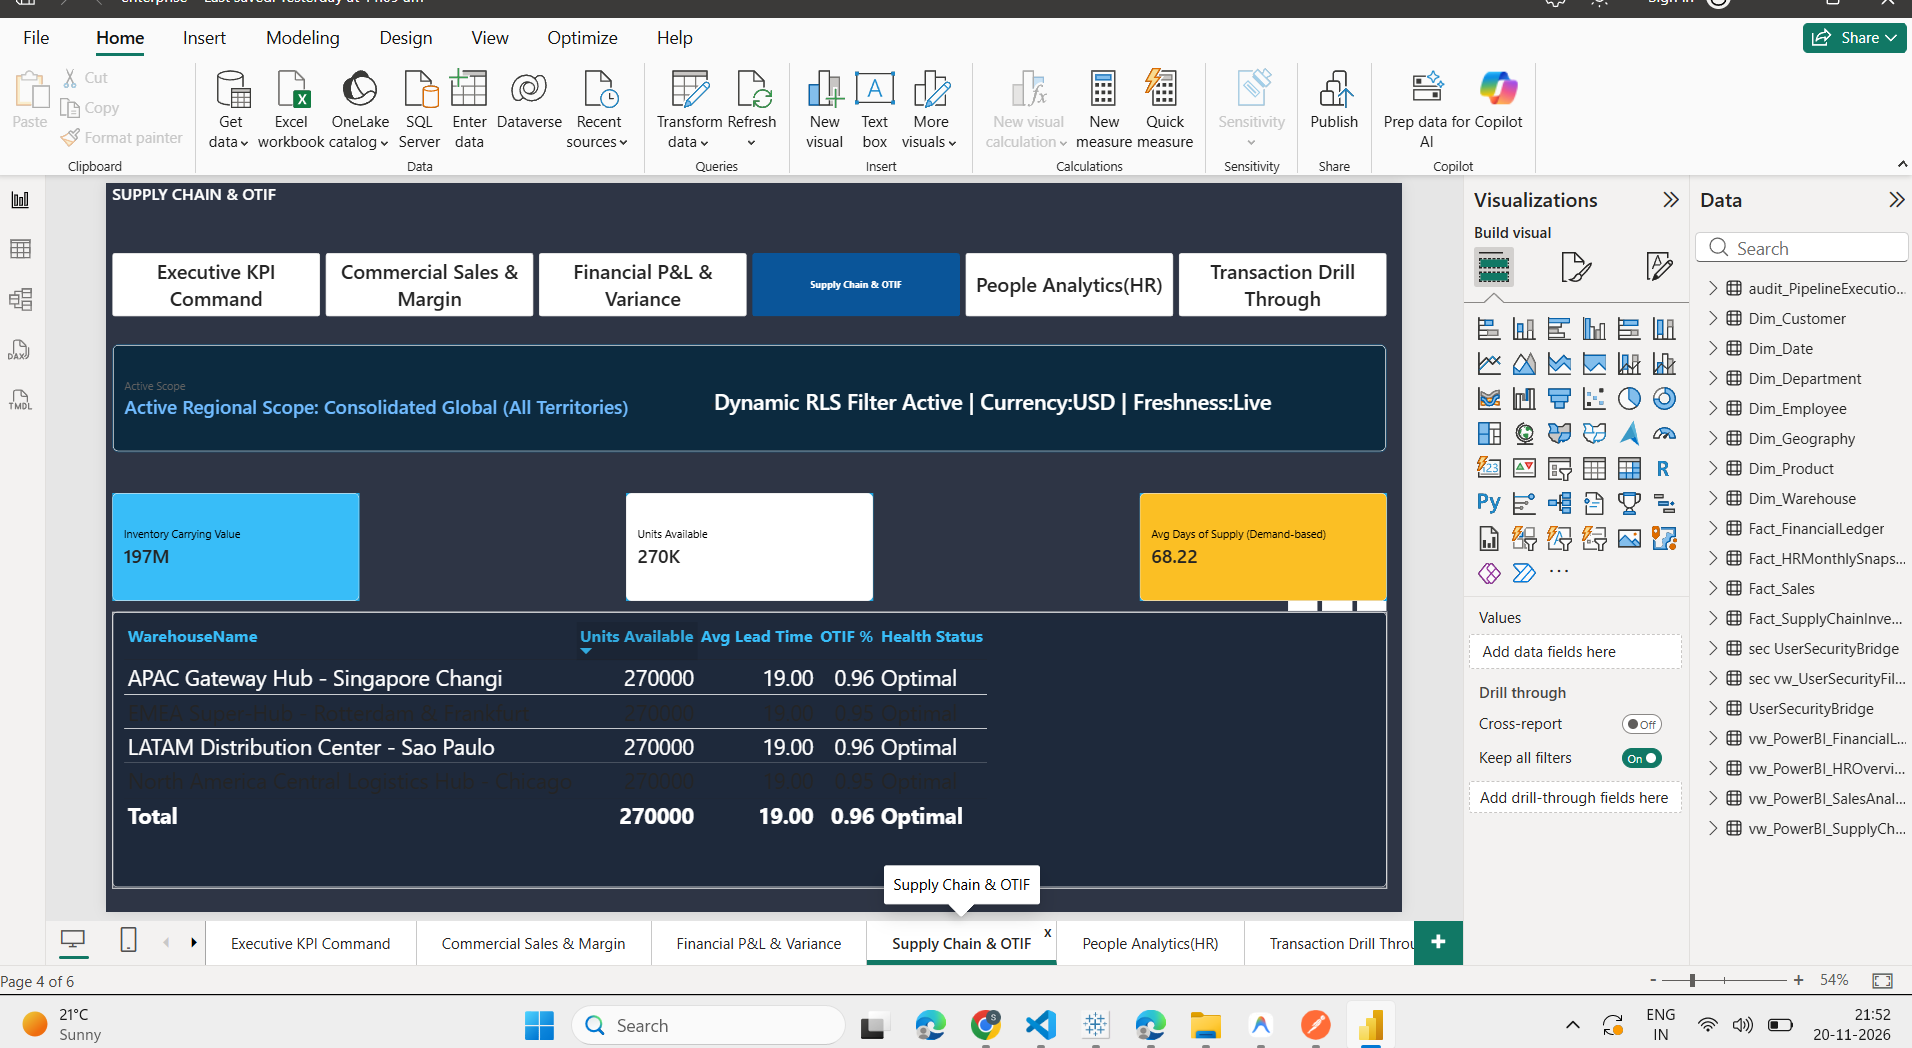

This screenshot's page, from the dashboard's own definition file:
{"tool":"powerbi","page":{"name":"Supply Chain & OTIF","canvas":[1920,1080],"ordinal":3},"visuals":[{"type":"textbox","box":[10,0,626,80],"z":0},{"type":"pageNavigator","box":[10,104,1888,94],"z":1000},{"type":"cardVisual","fields":{"Data":["Fact_Sales.Active Scope"]},"box":[10,238,1888,160],"z":2000},{"type":"textbox","box":[896,302,1002,54],"z":3000},{"type":"tableEx","fields":{"Values":["Dim_Warehouse.WarehouseName","Fact_Sales.Units Available","Fact_Sales.Avg Lead Time","Fact_Sales.OTIF %","Fact_Sales.Health Status"]},"box":[10,636,1888,408],"z":4000},{"type":"cardVisual","fields":{"Data":["Fact_Sales.Inventory Carrying Value"]},"box":[10,460,366,160],"z":4001},{"type":"cardVisual","fields":{"Data":["Fact_Sales.Avg Days of Supply (Demand-based)"]},"box":[1532,460,366,160],"z":4002},{"type":"cardVisual","fields":{"Data":["Fact_Sales.Units Available"]},"box":[770,460,366,160],"z":4004}]}

Visuals, with their boxes on the page's 1920x1080 design canvas (x1, y1, x2, y2). These are canvas units, not pixel positions in the 1912x1048 screenshot, which may show the page scaled, cropped or inside an application window:
textbox: 10 0 636 80
pageNavigator: 10 104 1898 198
cardVisual - Fact_Sales.Active Scope: 10 238 1898 398
textbox: 896 302 1898 356
tableEx - Dim_Warehouse.WarehouseName x Fact_Sales.Units Available: 10 636 1898 1044
cardVisual - Fact_Sales.Inventory Carrying Value: 10 460 376 620
cardVisual - Fact_Sales.Avg Days of Supply (Demand-based): 1532 460 1898 620
cardVisual - Fact_Sales.Units Available: 770 460 1136 620
